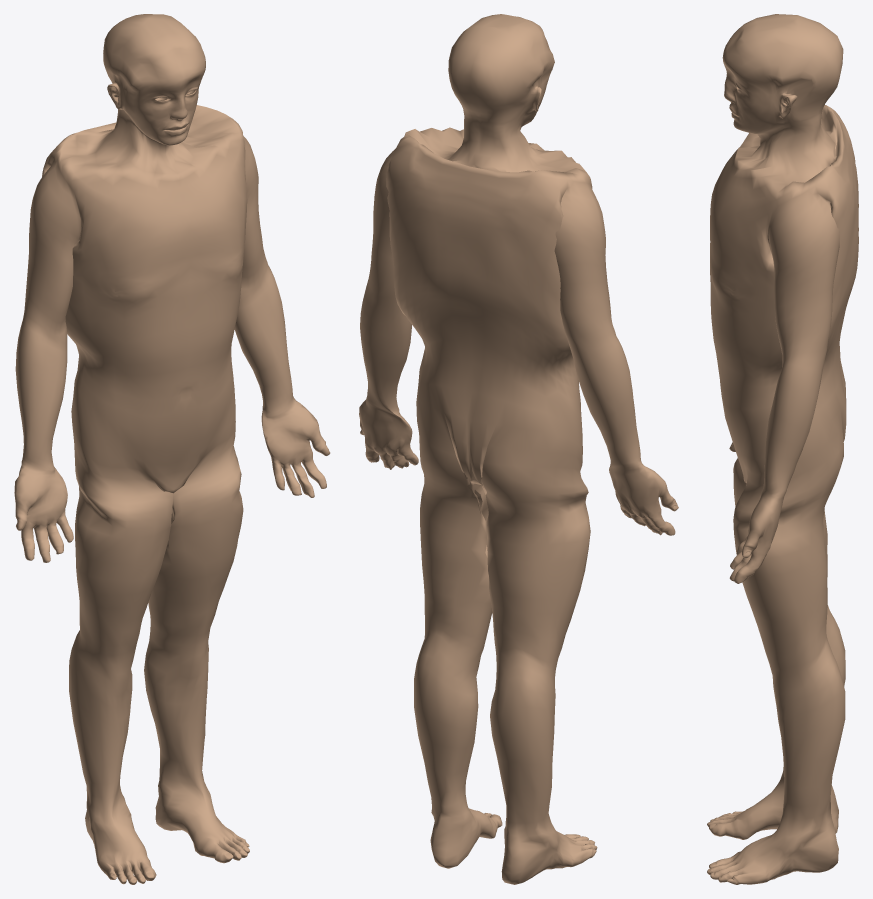
File: skin-candidate-f3c12.glb
3 views of the same model, side by side, from view 1: azimuth 30°, elevation 25°; view 2: azimuth 150°, elevation 25°; view 3: azimuth 270°, elevation 25° (orthographic).
Parts seen in each view (by area): view 1: MakeHuman_AT10_skin_fit_candidate_f3c12; view 2: MakeHuman_AT10_skin_fit_candidate_f3c12; view 3: MakeHuman_AT10_skin_fit_candidate_f3c12.
Boxes of the visible parts, x1=… form: MakeHuman_AT10_skin_fit_candidate_f3c12: x1=14, y1=14, x2=330, y2=884; MakeHuman_AT10_skin_fit_candidate_f3c12: x1=359, y1=14, x2=678, y2=884; MakeHuman_AT10_skin_fit_candidate_f3c12: x1=707, y1=14, x2=858, y2=884.
Size of the model in its own units: 0.6758 by 1.71 by 0.2826.
